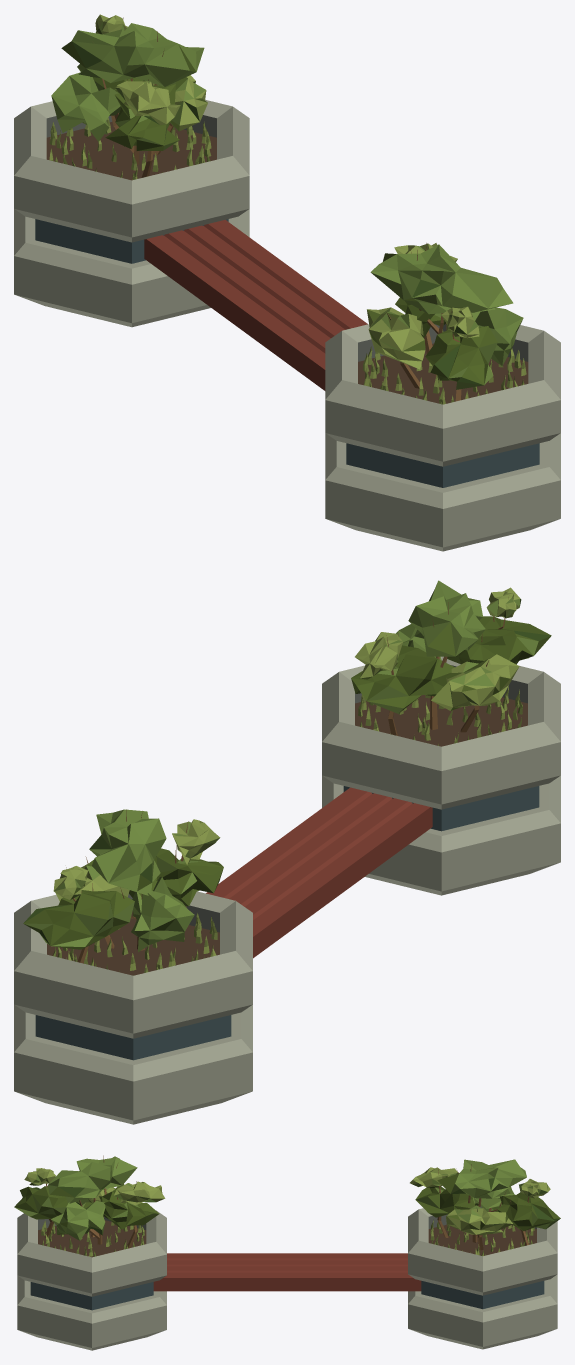
File: BenchWithPots.fbx
The picture shows the model from 3 angles, top to bottom: view 1: azimuth 30°, elevation 25°; view 2: azimuth 150°, elevation 25°; view 3: azimuth 270°, elevation 25°; orthographic projection. The views are drawn at different scales.
Visible parts, largest first — view 1: BigPotBush.002; view 2: BigPotBush.002; view 3: BigPotBush.002.
Boxes of the visible parts, box(x1,y1,x2,y2) form: BigPotBush.002: box(14, 14, 560, 551); BigPotBush.002: box(14, 580, 560, 1124); BigPotBush.002: box(14, 1155, 560, 1350).
Bounding box in the file's own units: 162 × 169 × 506.
